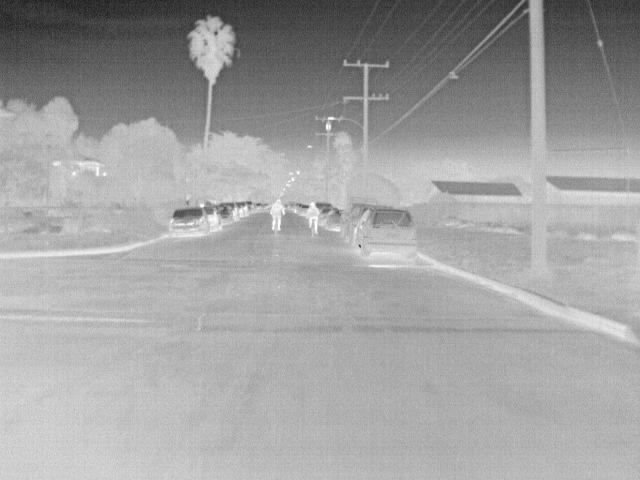car: (352, 207, 420, 259), (168, 207, 212, 238), (346, 203, 378, 244), (198, 204, 221, 230), (321, 209, 343, 233), (214, 205, 233, 225), (233, 200, 248, 218), (241, 200, 255, 214), (298, 204, 311, 218)
person: (268, 198, 286, 230), (307, 200, 321, 230)
